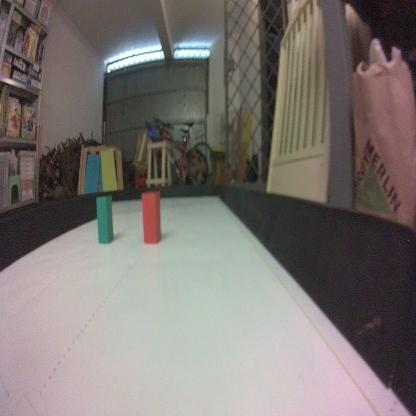green: (96, 192, 113, 244)
red: (140, 190, 162, 246)
